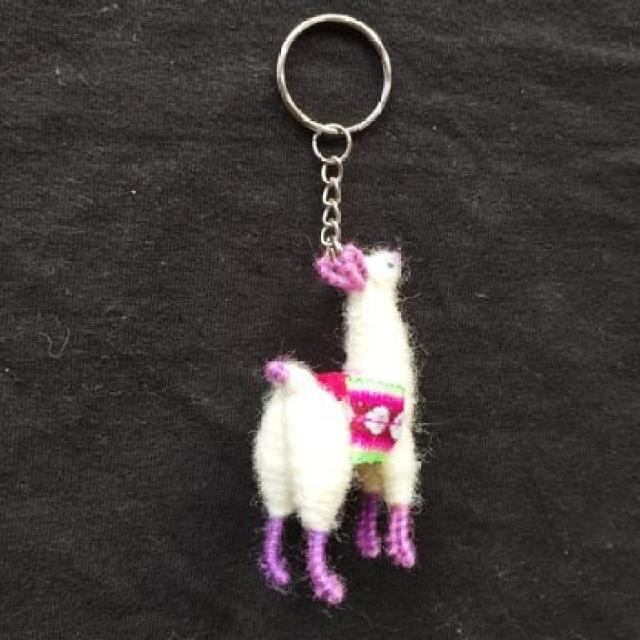Llavero: (251, 353, 354, 607)
